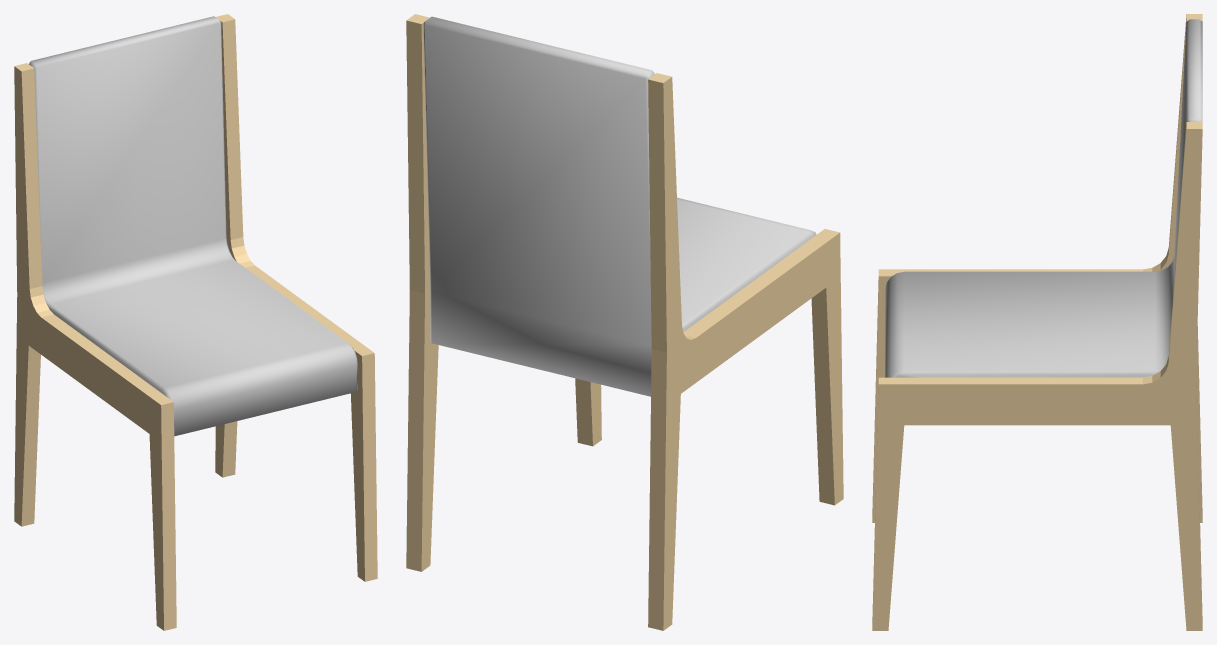
Rendered from chair2.gltf.
The picture shows the model from 3 angles, left to right: view 1: azimuth 30°, elevation 25°; view 2: azimuth 150°, elevation 25°; view 3: azimuth 270°, elevation 25°; orthographic projection. The views are drawn at different scales.
Visible parts, largest first — view 1: 1_primitive, 2_primitive; view 2: 1_primitive, 2_primitive; view 3: 2_primitive, 1_primitive.
Part boxes in pixels (bbox=[...]): 1_primitive: bbox=[29, 16, 357, 436]; 2_primitive: bbox=[14, 14, 377, 630]; 1_primitive: bbox=[423, 16, 816, 396]; 2_primitive: bbox=[406, 14, 843, 630]; 2_primitive: bbox=[872, 14, 1202, 630]; 1_primitive: bbox=[885, 19, 1202, 377].
Bounding box in the file's own units: 0.42 × 0.86 × 0.51.
